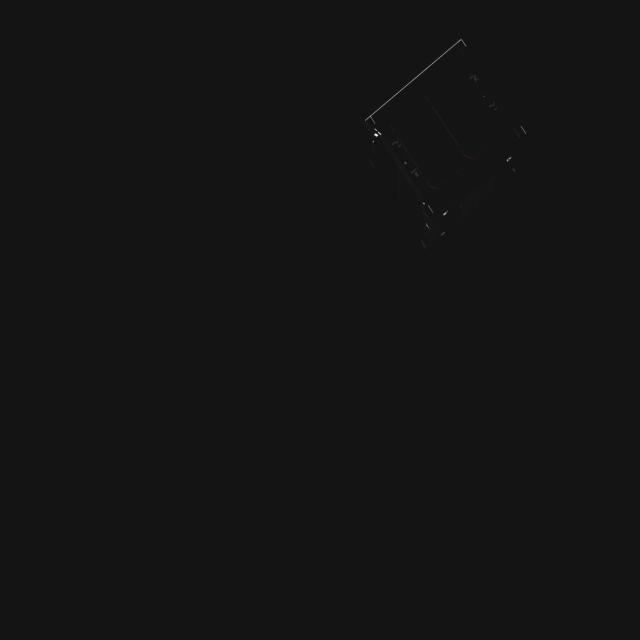satellite: (363, 34, 535, 238)
